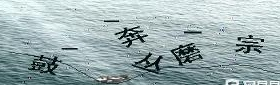chinese: (169, 42, 204, 67), (135, 49, 166, 75), (116, 26, 147, 51), (29, 53, 62, 76), (238, 33, 267, 55)
